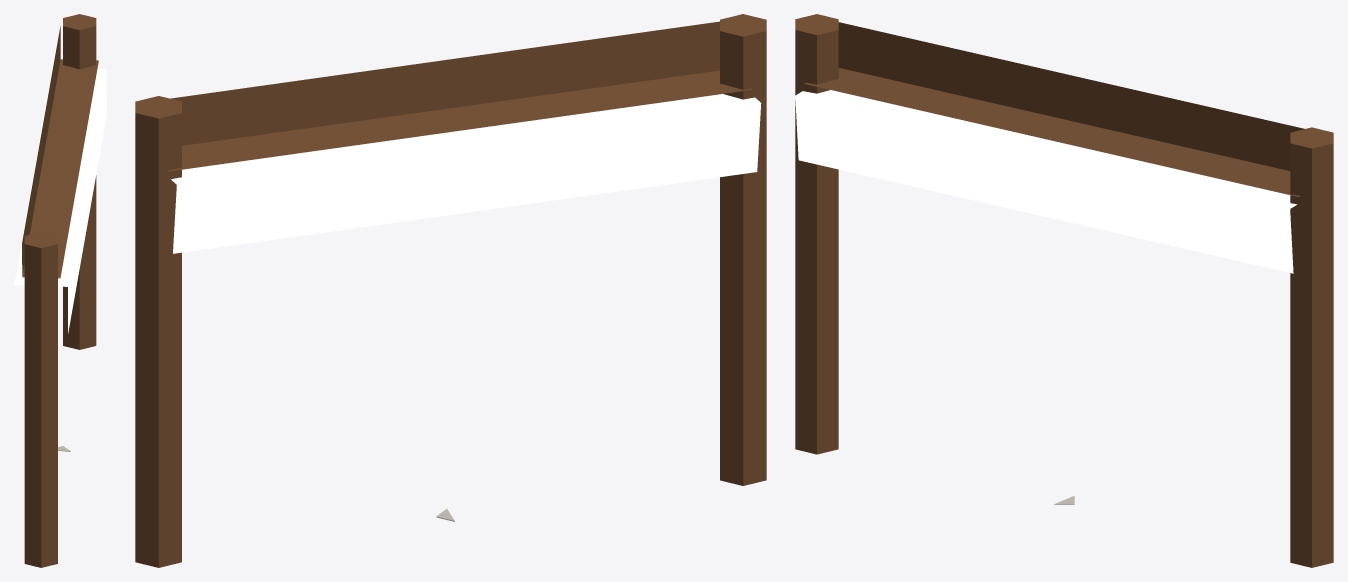
File: pirate_arch.glb
The picture shows the model from 3 angles, left to right: view 1: azimuth 30°, elevation 25°; view 2: azimuth 150°, elevation 25°; view 3: azimuth 270°, elevation 25°; orthographic projection. The views are drawn at different scales.
Visible parts, largest first — view 1: pirate_arch_lod0; view 2: pirate_arch_lod0; view 3: pirate_arch_lod0.
Part boxes in pixels (x1,y1,x2,y2): pirate_arch_lod0: (14, 14, 106, 567); pirate_arch_lod0: (135, 14, 766, 567); pirate_arch_lod0: (795, 14, 1333, 567).
Size of what is drawn, in the model's own units: 4.02 by 4.95 by 5.35.
